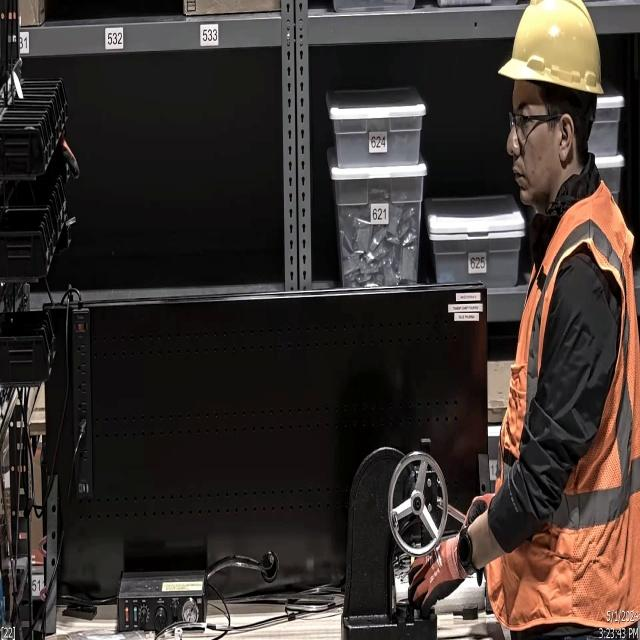construction-gloves: (402, 536, 462, 626)
